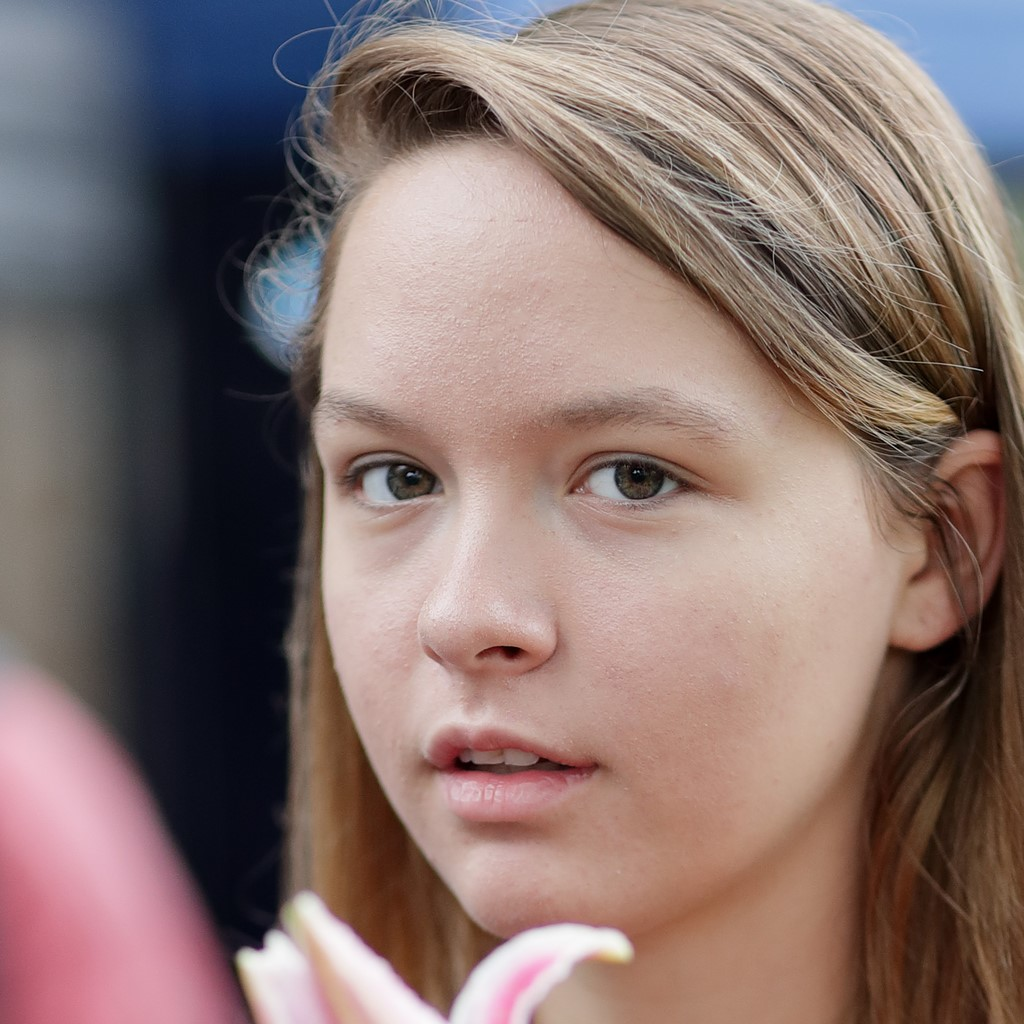sin_mascara: (298, 82, 917, 954)
